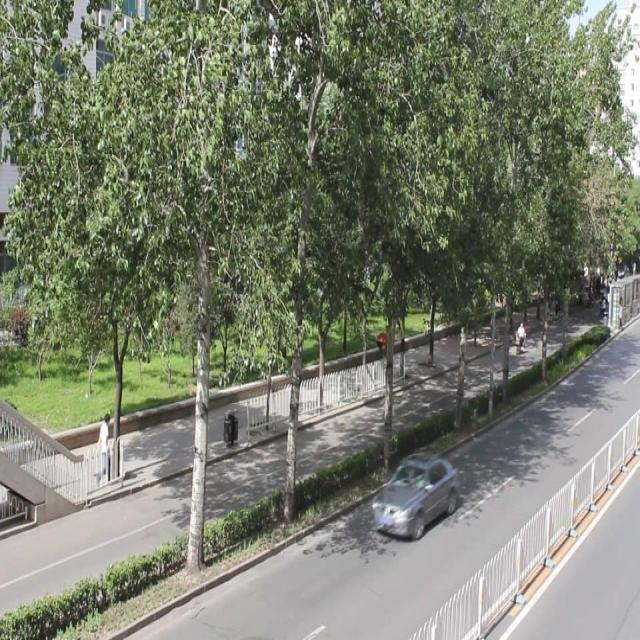car: (373, 450, 457, 534)
